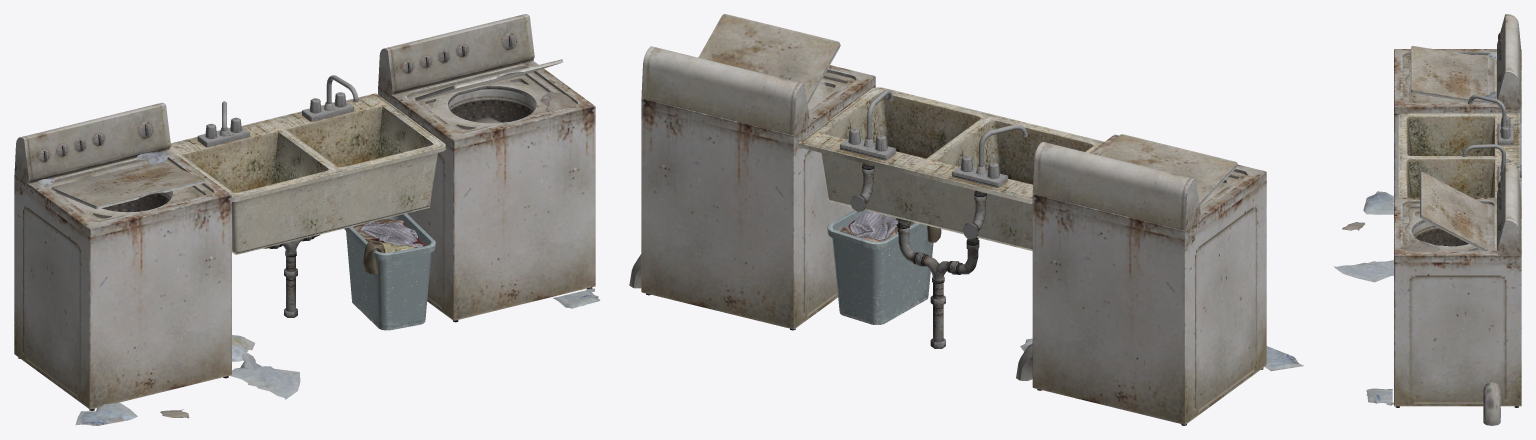
File: sm39_035_washingmachineset.fbx
3 views of the same model, side by side, from view 1: azimuth 30°, elevation 25°; view 2: azimuth 150°, elevation 25°; view 3: azimuth 270°, elevation 25° (orthographic). The views are drawn at different scales.
Parts seen in each view (by area): view 1: LOD_1_Group_0_Sub_7__sm31_029_WashingMachine01A_A_Mat, LOD_1_Group_0_Sub_6__sm30_082_WashStand01A_A_Mat, LOD_1_Group_0_Sub_5__sm30_104_Dustbox01B_B_Mat, LOD_1_Group_1_Sub_1__sm31_029_WashingMachine01A_A_Mat, LOD_1_Group_0_Sub_2__sm20_001_WastePaper01A_A_Mat, LOD_1_Group_0_Sub_4__sm30_084_BasketWashing01A_A_Mat; view 2: LOD_1_Group_0_Sub_7__sm31_029_WashingMachine01A_A_Mat, LOD_1_Group_0_Sub_6__sm30_082_WashStand01A_A_Mat, LOD_1_Group_1_Sub_1__sm31_029_WashingMachine01A_A_Mat, LOD_1_Group_0_Sub_5__sm30_104_Dustbox01B_B_Mat, LOD_1_Group_0_Sub_4__sm30_084_BasketWashing01A_A_Mat, LOD_1_Group_0_Sub_1__sm22_010_Pipe02A_A_Mat, LOD_1_Group_0_Sub_2__sm20_001_WastePaper01A_A_Mat; view 3: LOD_1_Group_0_Sub_7__sm31_029_WashingMachine01A_A_Mat, LOD_1_Group_0_Sub_6__sm30_082_WashStand01A_A_Mat, LOD_1_Group_1_Sub_1__sm31_029_WashingMachine01A_A_Mat, LOD_1_Group_0_Sub_2__sm20_001_WastePaper01A_A_Mat, LOD_1_Group_0_Sub_1__sm22_010_Pipe02A_A_Mat.
Part boxes in pixels (x1,y1,x2,y2): LOD_1_Group_0_Sub_7__sm31_029_WashingMachine01A_A_Mat: (14,14,595,410); LOD_1_Group_0_Sub_6__sm30_082_WashStand01A_A_Mat: (170,75,445,317); LOD_1_Group_0_Sub_5__sm30_104_Dustbox01B_B_Mat: (344,213,435,330); LOD_1_Group_1_Sub_1__sm31_029_WashingMachine01A_A_Mat: (51,59,562,208); LOD_1_Group_0_Sub_2__sm20_001_WastePaper01A_A_Mat: (37,91,599,425); LOD_1_Group_0_Sub_4__sm30_084_BasketWashing01A_A_Mat: (352,218,426,274); LOD_1_Group_0_Sub_7__sm31_029_WashingMachine01A_A_Mat: (641,46,1266,425); LOD_1_Group_0_Sub_6__sm30_082_WashStand01A_A_Mat: (798,87,1103,348); LOD_1_Group_1_Sub_1__sm31_029_WashingMachine01A_A_Mat: (698,14,1237,205); LOD_1_Group_0_Sub_5__sm30_104_Dustbox01B_B_Mat: (827,210,933,324); LOD_1_Group_0_Sub_4__sm30_084_BasketWashing01A_A_Mat: (838,211,941,242); LOD_1_Group_0_Sub_1__sm22_010_Pipe02A_A_Mat: (629,254,1032,380); LOD_1_Group_0_Sub_2__sm20_001_WastePaper01A_A_Mat: (1020,338,1303,370); LOD_1_Group_0_Sub_7__sm31_029_WashingMachine01A_A_Mat: (1394,14,1521,407); LOD_1_Group_0_Sub_6__sm30_082_WashStand01A_A_Mat: (1398,94,1521,197); LOD_1_Group_1_Sub_1__sm31_029_WashingMachine01A_A_Mat: (1410,46,1488,251); LOD_1_Group_0_Sub_2__sm20_001_WastePaper01A_A_Mat: (1334,52,1496,405); LOD_1_Group_0_Sub_1__sm22_010_Pipe02A_A_Mat: (1483,382,1500,425).
Bounding box in the file's own units: 3.29 × 1.31 × 1.15.
